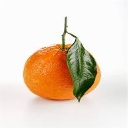orange: (19, 37, 102, 101)
